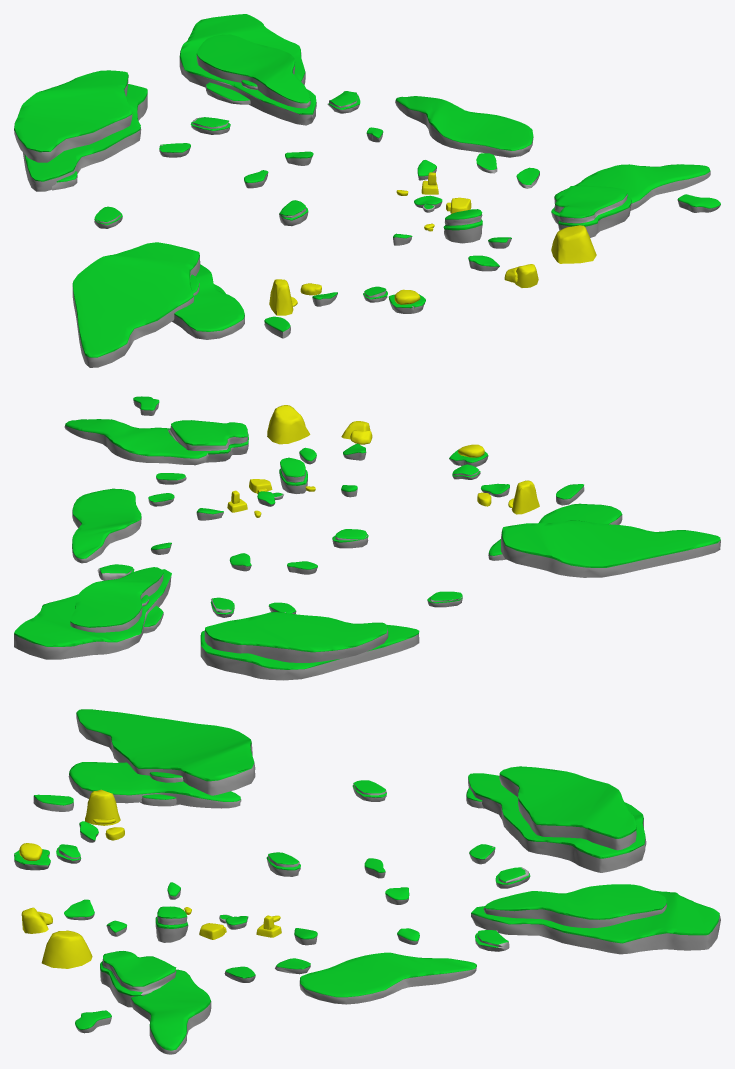
Rendered from Environment_01.fbx.
3 views of the same model, one above another, from view 1: azimuth 30°, elevation 25°; view 2: azimuth 150°, elevation 25°; view 3: azimuth 270°, elevation 25° (orthographic). The views are drawn at different scales.
Visible parts, largest first — view 1: polySurface28, polySurface2, polySurface15, polySurface20, polySurface16, polySurface6, polySurface1, polySurface30, polySurface26, polySurface43, polySurface23, polySurface38 (+4 smaller); view 2: polySurface28, polySurface2, polySurface15, polySurface6, polySurface16, polySurface20, polySurface1, polySurface30, polySurface26, polySurface43, polySurface23, polySurface38 (+2 smaller); view 3: polySurface28, polySurface2, polySurface15, polySurface20, polySurface16, polySurface6, polySurface26, polySurface1, polySurface30, polySurface43, polySurface23, polySurface38 (+6 smaller).
Boxes of the visible parts, left/top/right/bottom form: polySurface28: left=72, top=242, right=200, bottom=367; polySurface2: left=14, top=70, right=132, bottom=162; polySurface15: left=179, top=14, right=316, bottom=125; polySurface20: left=395, top=96, right=533, bottom=157; polySurface16: left=196, top=34, right=310, bottom=108; polySurface6: left=23, top=84, right=147, bottom=191; polySurface1: left=554, top=164, right=710, bottom=210; polySurface30: left=551, top=185, right=631, bottom=237; polySurface26: left=172, top=264, right=244, bottom=339; polySurface43: left=551, top=225, right=596, bottom=263; polySurface23: left=443, top=209, right=482, bottom=243; polySurface38: left=269, top=279, right=293, bottom=315; polySurface28: left=501, top=520, right=720, bottom=577; polySurface2: left=204, top=612, right=388, bottom=662; polySurface15: left=14, top=569, right=171, bottom=659; polySurface6: left=200, top=625, right=419, bottom=680; polySurface16: left=70, top=567, right=163, bottom=632; polySurface20: left=72, top=488, right=141, bottom=563; polySurface1: left=64, top=419, right=208, bottom=465; polySurface30: left=168, top=420, right=248, bottom=462; polySurface26: left=488, top=503, right=622, bottom=560; polySurface43: left=267, top=405, right=310, bottom=444; polySurface23: left=279, top=457, right=307, bottom=493; polySurface38: left=511, top=480, right=539, bottom=514; polySurface28: left=76, top=709, right=255, bottom=795; polySurface2: left=499, top=766, right=636, bottom=850; polySurface15: left=471, top=890, right=720, bottom=954; polySurface20: left=299, top=952, right=476, bottom=1004; polySurface16: left=483, top=884, right=666, bottom=928; polySurface6: left=468, top=773, right=646, bottom=872; polySurface26: left=68, top=762, right=241, bottom=808; polySurface1: left=130, top=969, right=211, bottom=1054; polySurface30: left=100, top=951, right=176, bottom=1007; polySurface43: left=41, top=930, right=92, bottom=968; polySurface23: left=155, top=906, right=188, bottom=942; polySurface38: left=85, top=789, right=120, bottom=825.
Size of the model in its own units: 14808 by 821 by 13181.
